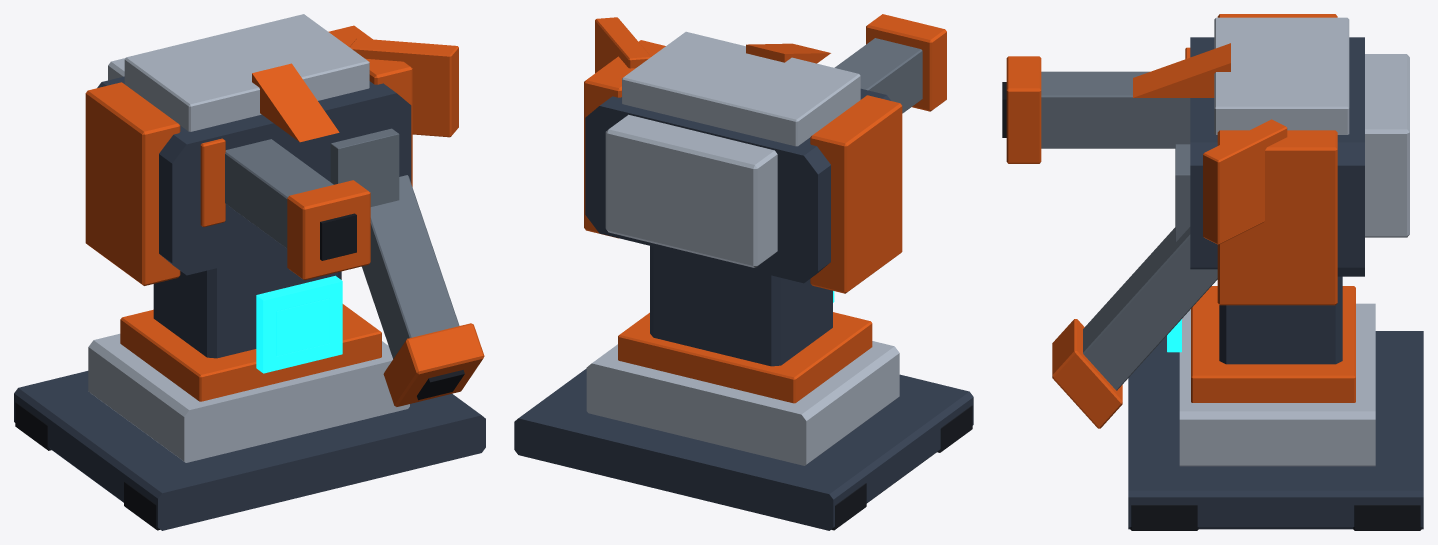
Rendered from damaged.glb.
The picture shows the model from 3 angles, left to right: view 1: azimuth 30°, elevation 25°; view 2: azimuth 150°, elevation 25°; view 3: azimuth 270°, elevation 25°; orthographic projection. The views are drawn at different scales.
Visible parts, largest first — view 1: ROLE_primary, ROLE_accent, ROLE_secondary, ROLE_bareMetal, ROLE_interaction, ROLE_rubber; view 2: ROLE_secondary, ROLE_primary, ROLE_accent, ROLE_bareMetal, ROLE_rubber; view 3: ROLE_primary, ROLE_accent, ROLE_secondary, ROLE_bareMetal, ROLE_rubber.
Boxes of the visible parts, bbox=[...] form: ROLE_primary: bbox=[14, 76, 485, 530]; ROLE_accent: bbox=[85, 25, 484, 406]; ROLE_secondary: bbox=[88, 14, 409, 462]; ROLE_bareMetal: bbox=[225, 128, 459, 358]; ROLE_interaction: bbox=[256, 275, 342, 373]; ROLE_rubber: bbox=[15, 213, 464, 530]; ROLE_secondary: bbox=[586, 31, 899, 465]; ROLE_primary: bbox=[514, 88, 973, 530]; ROLE_accent: bbox=[584, 14, 946, 403]; ROLE_bareMetal: bbox=[834, 38, 922, 113]; ROLE_rubber: bbox=[831, 405, 972, 530]; ROLE_primary: bbox=[1128, 37, 1423, 529]; ROLE_accent: bbox=[1006, 14, 1355, 428]; ROLE_secondary: bbox=[1179, 17, 1409, 466]; ROLE_bareMetal: bbox=[1041, 71, 1217, 390]; ROLE_rubber: bbox=[1002, 82, 1421, 530].
Bounding box in the file's own units: 4.8 × 5.14 × 4.95.
